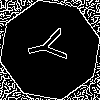Y: (25, 25, 77, 68)
